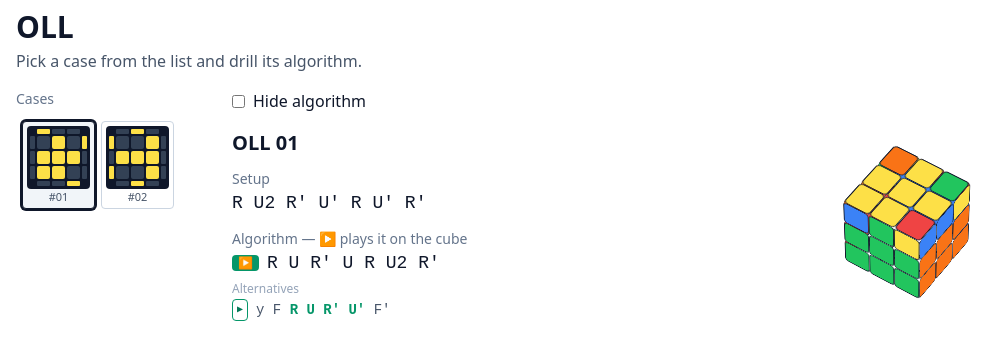
Test case: LastLayerTrainer › selecting another case updates the algorithm
This screenshot has width=988, height=338.
Click the button named "OLL 02".
click(138, 165)  # box [101, 121, 174, 208]
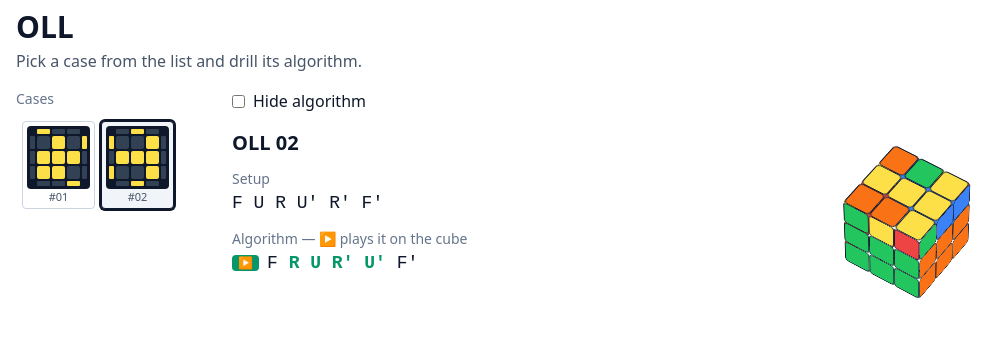
Expected: the element with test id "algorithm" reads "F R U R' U' F'", [267, 249, 418, 277]
